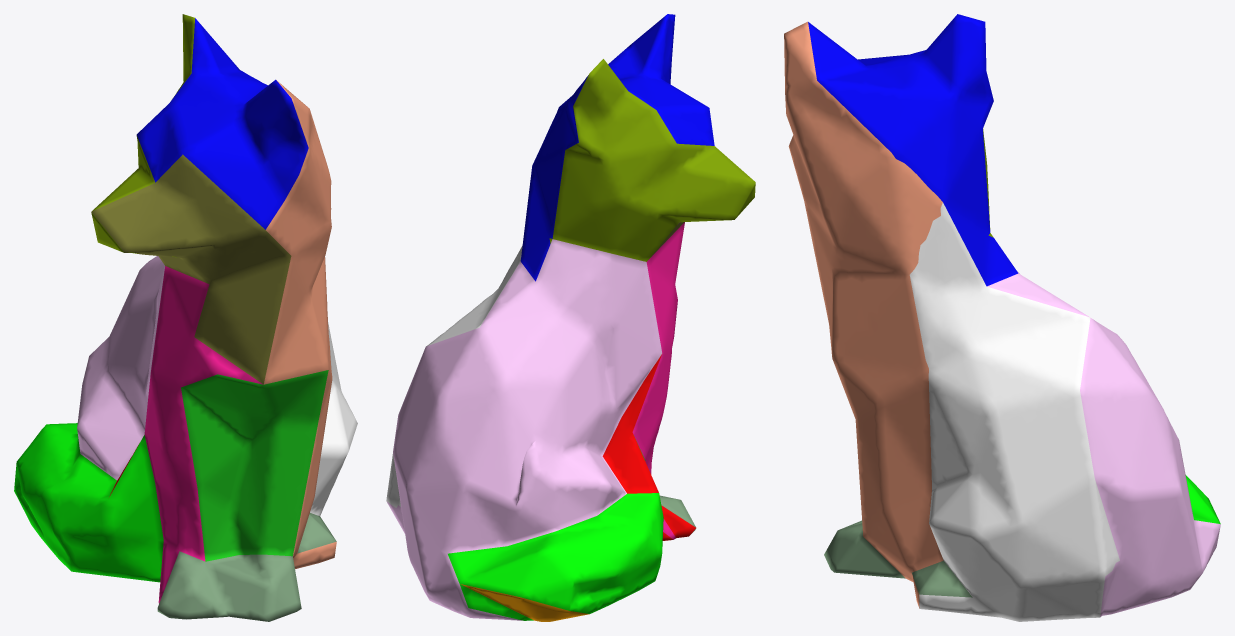
Rendered from model_77_segmented_new.obj.
3 views of the same model, side by side, from view 1: azimuth 30°, elevation 25°; view 2: azimuth 150°, elevation 25°; view 3: azimuth 270°, elevation 25° (orthographic). The views are drawn at different scales.
Size of the model in its own units: 63.73 by 107 by 78.43.
